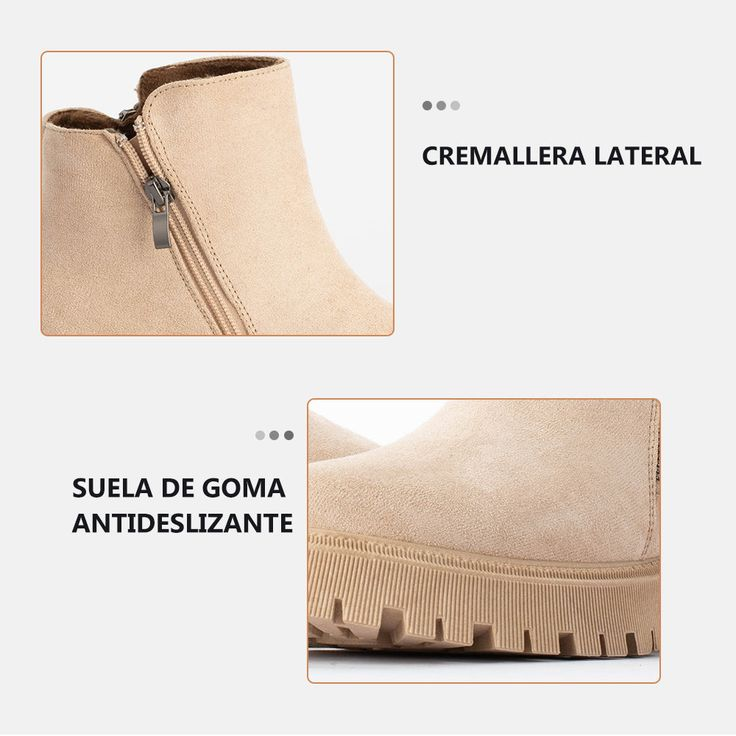gamuza: (40, 53, 661, 562)
